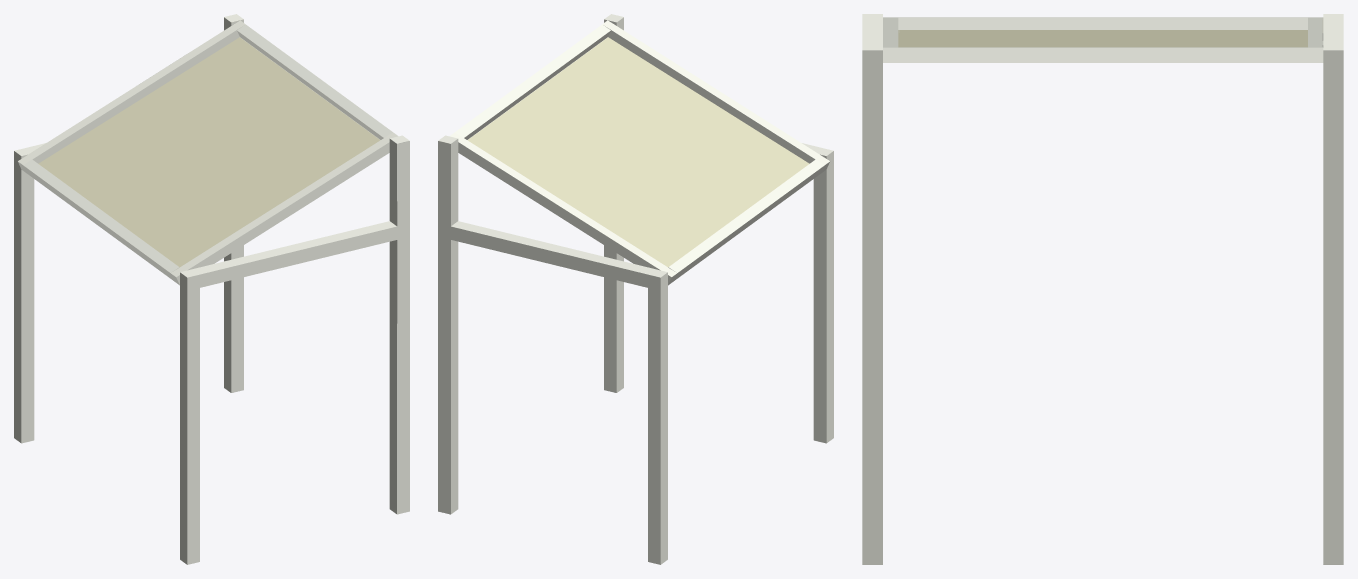
The model's file is RAAL_op70.dae.
3 renders of one model, left to right at view 1: azimuth 30°, elevation 25°; view 2: azimuth 150°, elevation 25°; view 3: azimuth 270°, elevation 25°, orthographic. The views are drawn at different scales.
Parts seen in each view (by area): view 1: RAAL_op70; view 2: RAAL_op70; view 3: RAAL_op70.
Boxes of the visible parts, left/top/right/bottom form: RAAL_op70: left=14, top=14, right=409, bottom=564; RAAL_op70: left=438, top=14, right=833, bottom=564; RAAL_op70: left=862, top=14, right=1343, bottom=564.
Size of the model in its own units: 0.7088 by 0.9403 by 1.11.
Materials: 2 (2 with a texture image).
